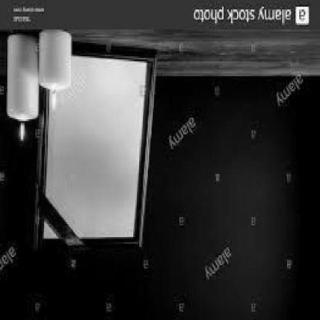Fire: (13, 114, 29, 148), (48, 88, 60, 116)
